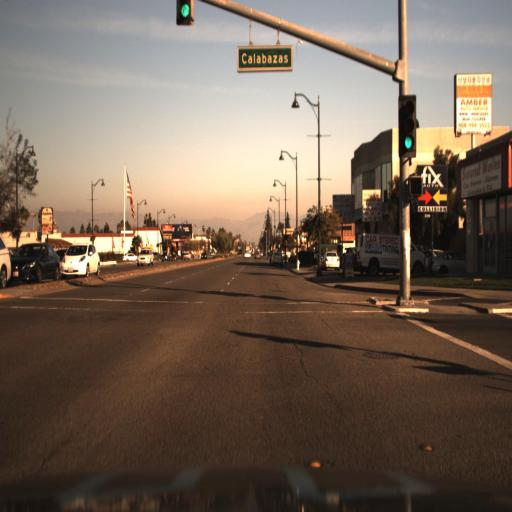car: (356, 224, 426, 272), (9, 241, 59, 282), (59, 239, 99, 275), (432, 251, 471, 276), (320, 251, 342, 269), (136, 248, 153, 269), (271, 248, 285, 267)
trafficLight-Green: (398, 96, 415, 158), (178, 0, 192, 22)
